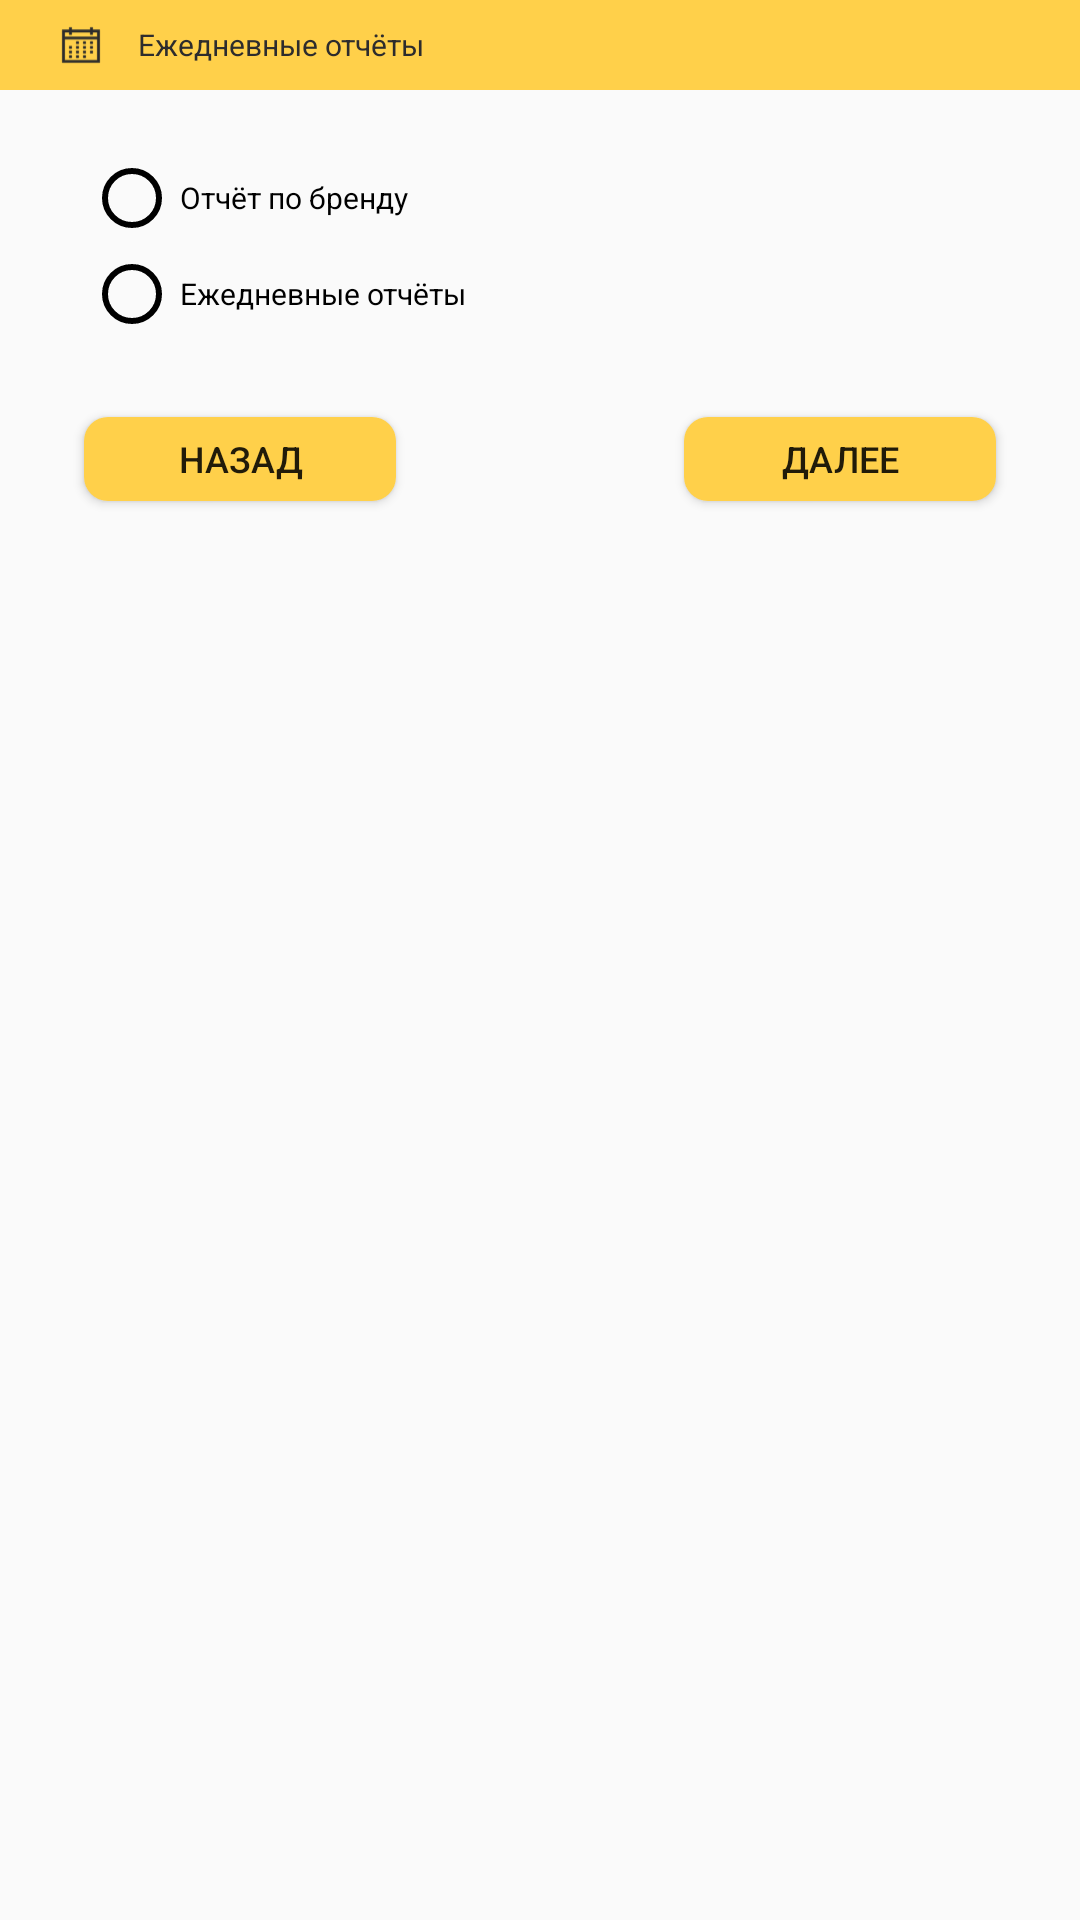

Icon click points for this 1080 x 1920 phone screenshot, format point (x, y):
daily: point (81, 45)
